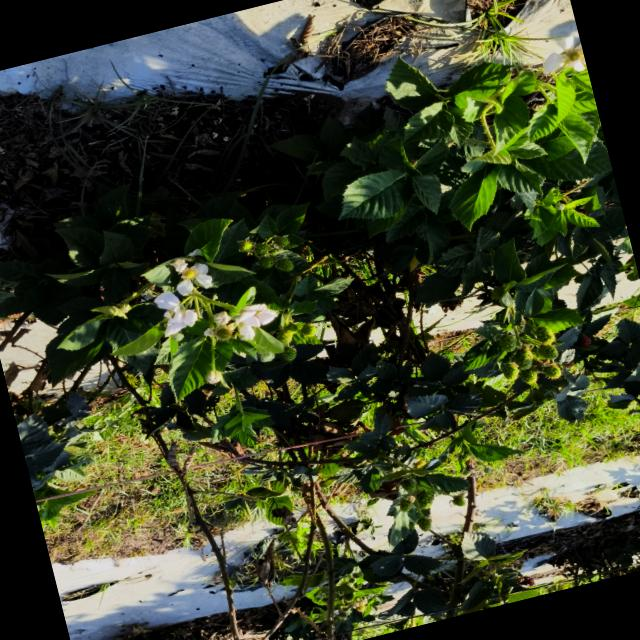boton: (205, 369, 222, 383), (259, 352, 275, 362)
flor: (154, 292, 197, 336), (232, 303, 278, 339), (172, 259, 212, 294)
